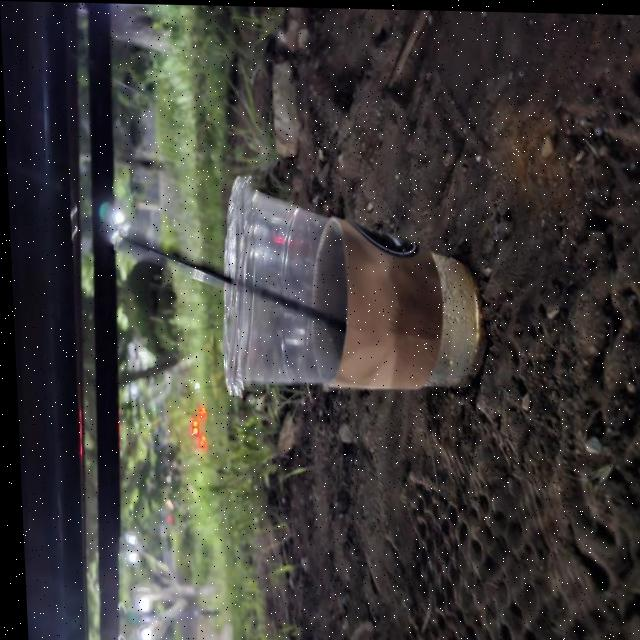cup: (207, 171, 491, 415)
